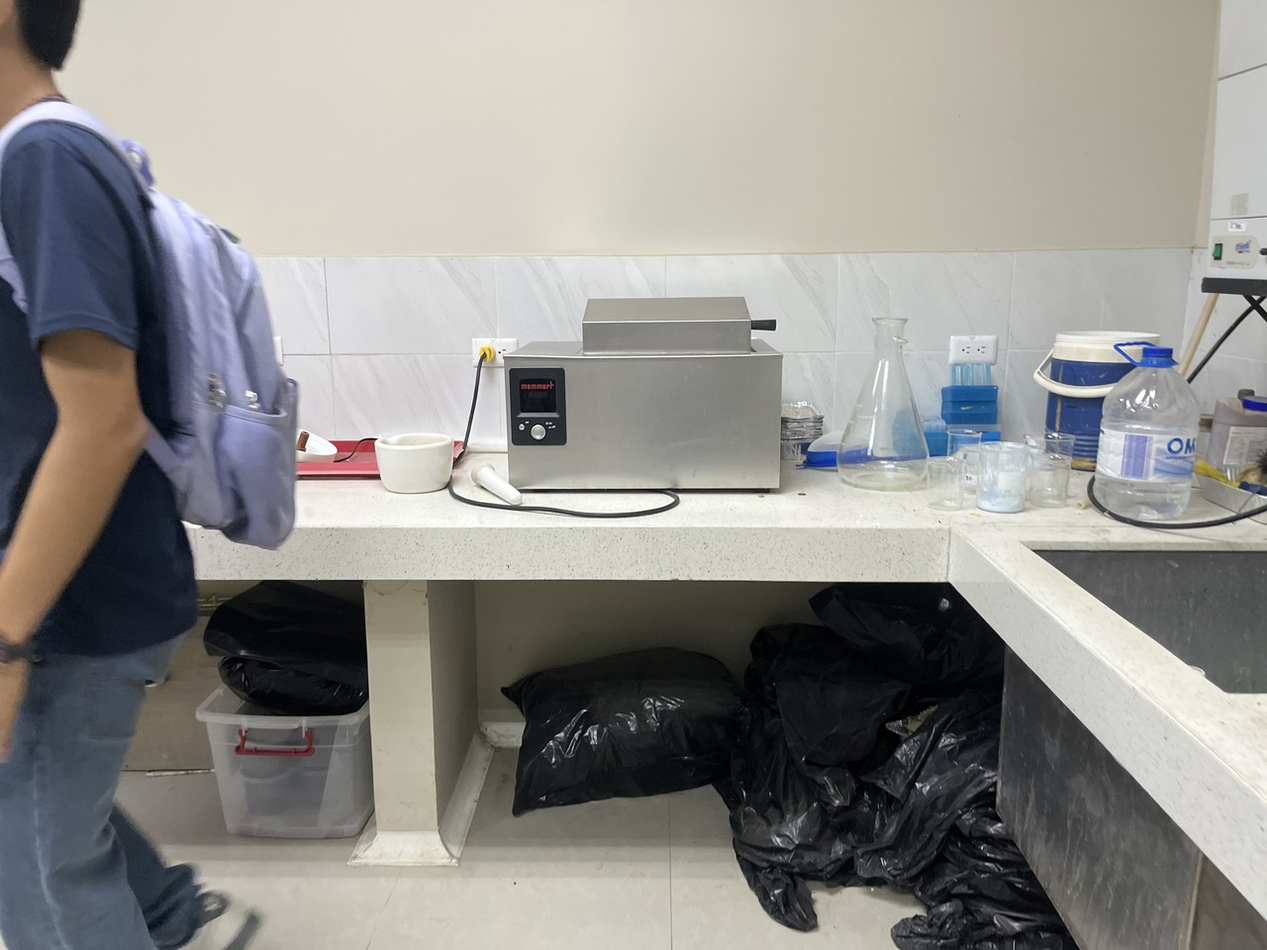memmert: (483, 276, 809, 513)
